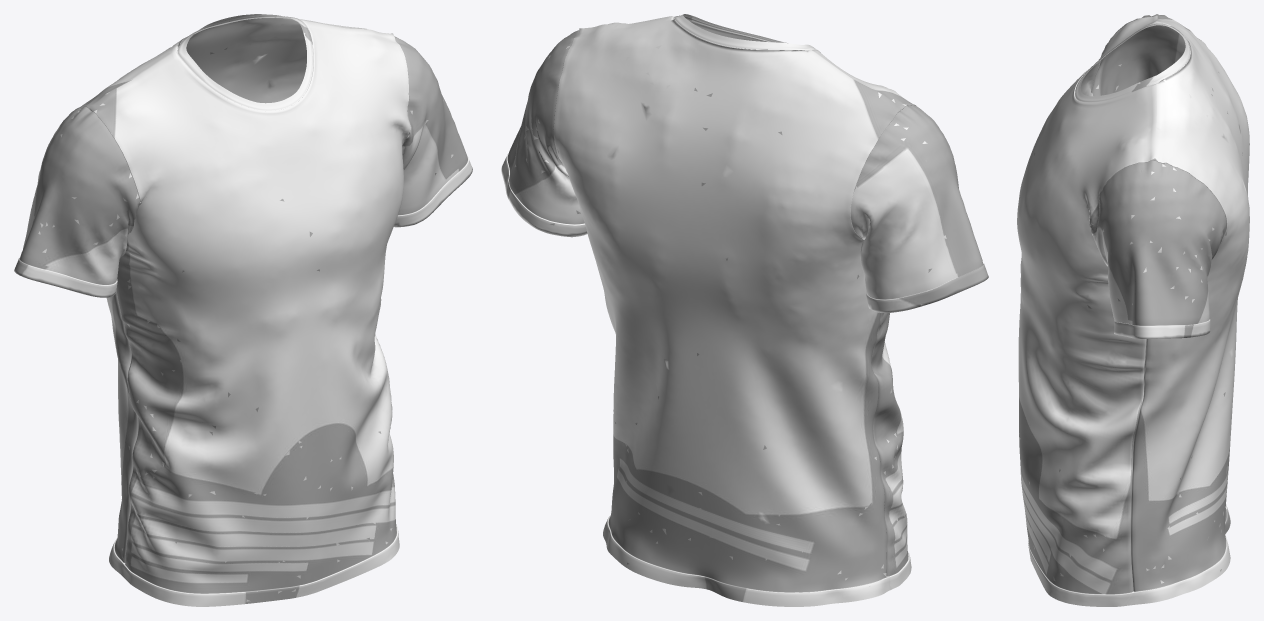
3 renders of one model, left to right at view 1: azimuth 30°, elevation 25°; view 2: azimuth 150°, elevation 25°; view 3: azimuth 270°, elevation 25°, orthographic. The views are drawn at different scales.
Parts seen in each view (by area): view 1: Object_4; view 2: Object_4; view 3: Object_4.
Part boxes in pixels (x1,y1,x2,y2): Object_4: [14, 14, 472, 606]; Object_4: [501, 14, 988, 606]; Object_4: [1017, 14, 1249, 606].
Bounding box in the file's own units: 1.21 × 1.32 × 0.5475.
Materials: 1 (1 with a texture image).
